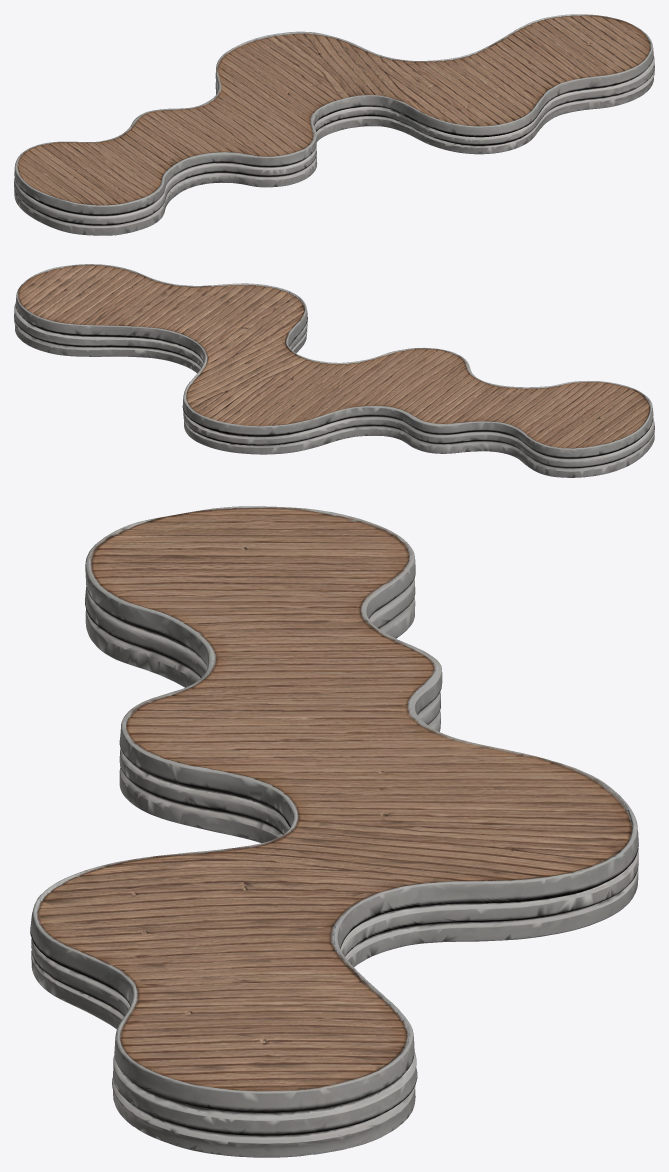
The model's file is deckwave.glb.
3 views of the same model, one above another, from view 1: azimuth 30°, elevation 25°; view 2: azimuth 150°, elevation 25°; view 3: azimuth 270°, elevation 25° (orthographic). The views are drawn at different scales.
Visible parts, largest first — view 1: tripo_node_9ec09905-91dd-470f-8dda-bee24659368a; view 2: tripo_node_9ec09905-91dd-470f-8dda-bee24659368a; view 3: tripo_node_9ec09905-91dd-470f-8dda-bee24659368a.
Part boxes in pixels (bbox=[...]): tripo_node_9ec09905-91dd-470f-8dda-bee24659368a: bbox=[14, 14, 654, 235]; tripo_node_9ec09905-91dd-470f-8dda-bee24659368a: bbox=[14, 264, 654, 477]; tripo_node_9ec09905-91dd-470f-8dda-bee24659368a: bbox=[30, 506, 638, 1157].
Size of the model in its own units: 9.23 by 0.5003 by 3.97.
Materials: 1 (1 with a texture image).
